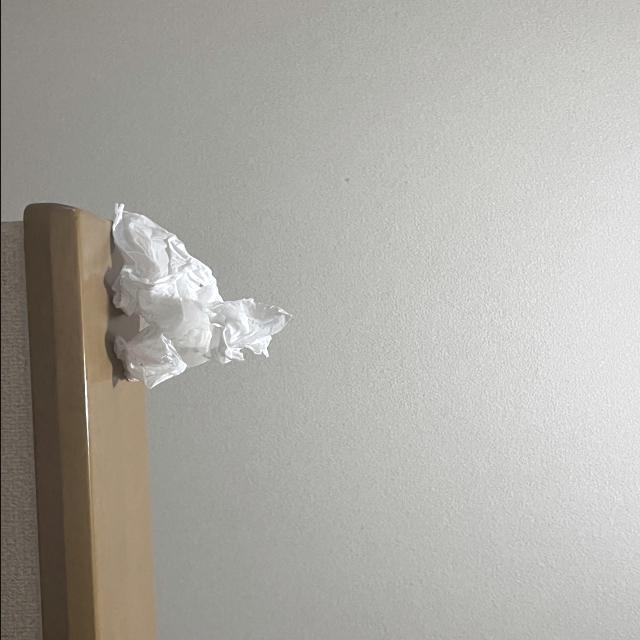Paper: (111, 196, 278, 389)
